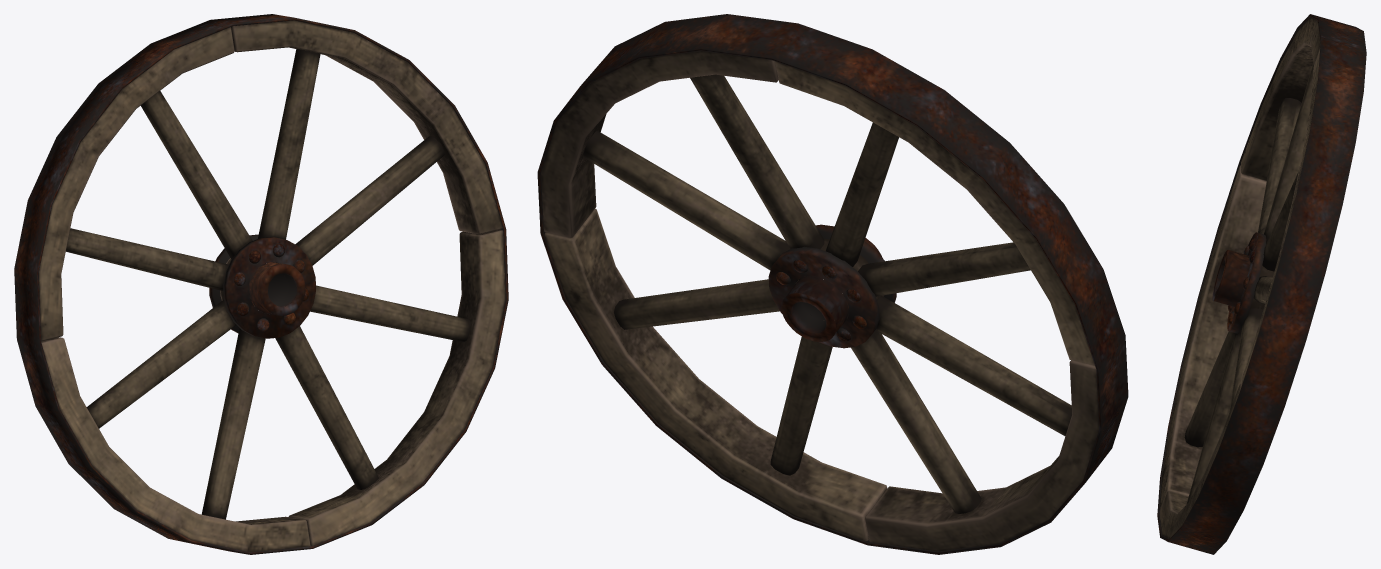
File: cart_wheel.glb
3 views of the same model, side by side, from view 1: azimuth 30°, elevation 25°; view 2: azimuth 150°, elevation 25°; view 3: azimuth 270°, elevation 25° (orthographic). The views are drawn at different scales.
Parts seen in each view (by area): view 1: Wheel_Wood_Wheel_0; view 2: Wheel_Wood_Wheel_0; view 3: Wheel_Wood_Wheel_0.
Boxes of the visible parts, left/top/right/bottom form: Wheel_Wood_Wheel_0: left=14, top=14, right=508, bottom=554; Wheel_Wood_Wheel_0: left=537, top=14, right=1128, bottom=554; Wheel_Wood_Wheel_0: left=1157, top=14, right=1366, bottom=554.
Size of the model in its own units: 2.18 by 2.14 by 0.8301.
5 materials, 5 textured.
